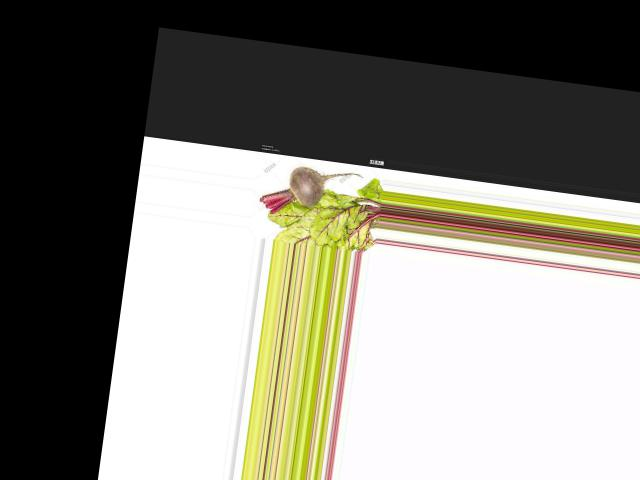beet: (257, 160, 363, 225)
